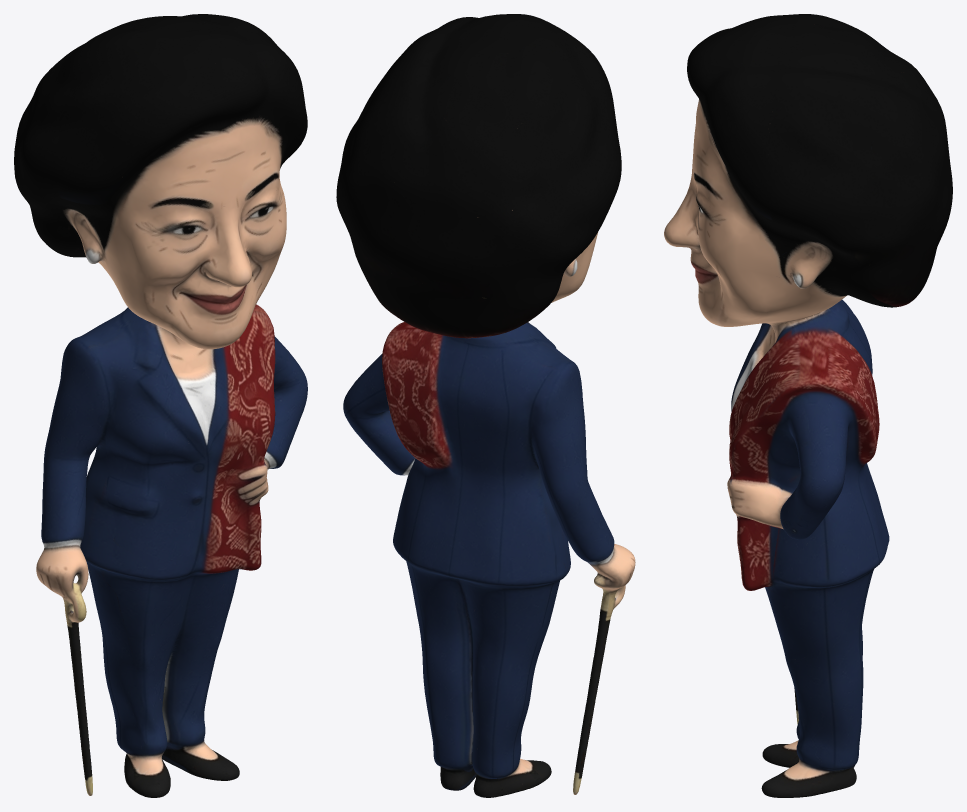
The model's file is egawati berdiri.glb.
3 renders of one model, left to right at view 1: azimuth 30°, elevation 25°; view 2: azimuth 150°, elevation 25°; view 3: azimuth 270°, elevation 25°, orthographic. The views are drawn at different scales.
Bounding box in the file's own units: 0.7312 × 1.9 × 0.6671.
Materials: 1 (1 with a texture image).
